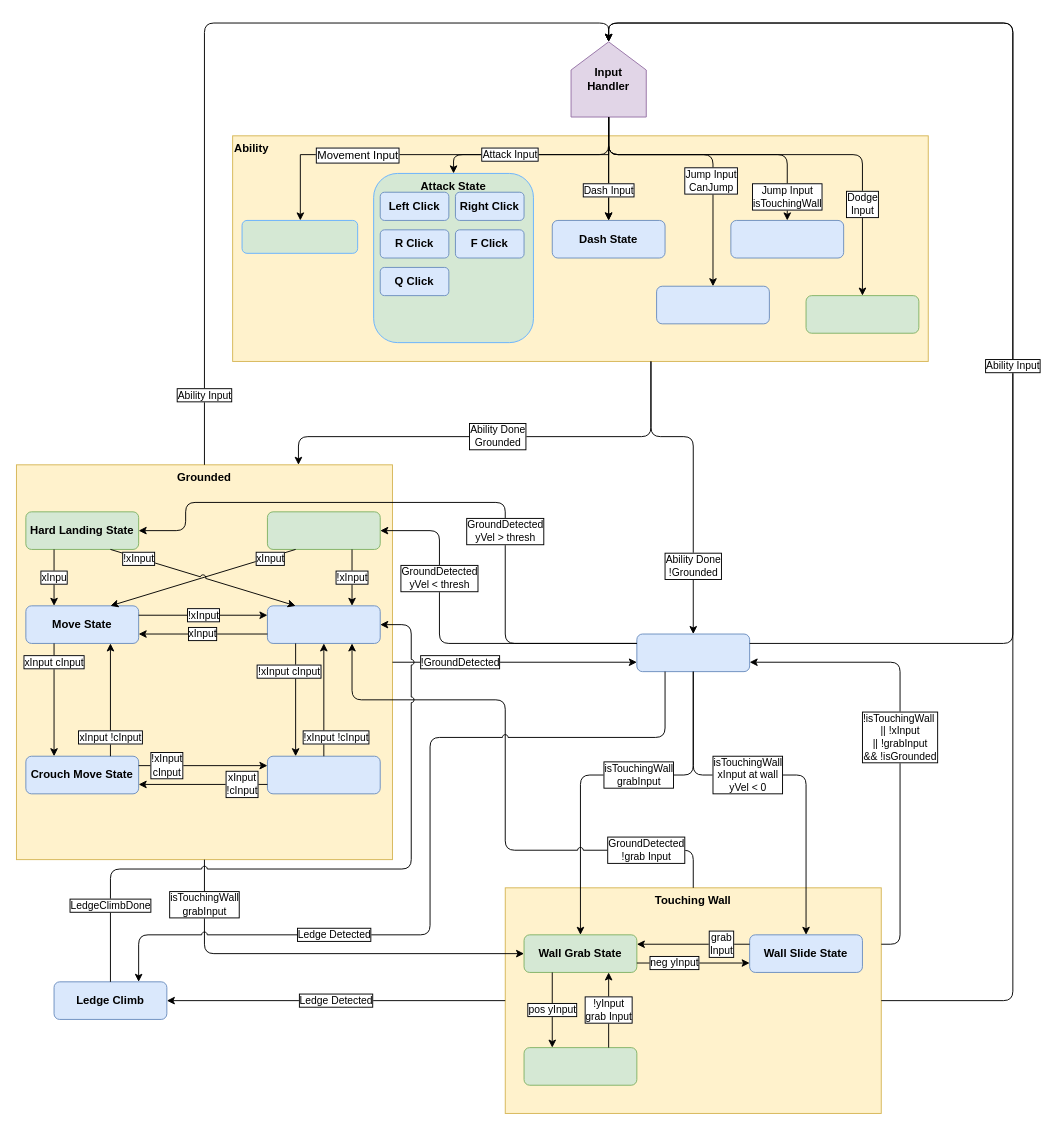
Some shapes in this 1057 by 1130 pixel diagram are drawn without their labels. Here are the shapes that lost their labels. From the top down, the centre of each, then its label:
At [299,236]: "Movement".
At [787,238]: "Wall Jump State".
At [712,304]: "Jump State".
At [862,314]: "Dodge Roll".
At [323,530]: "Land State".
At [323,624]: "Idle State".
At [693,652]: "In Air State".
At [323,774]: "Crouch Idle State".
At [580,1066]: "Wall Climb State".
